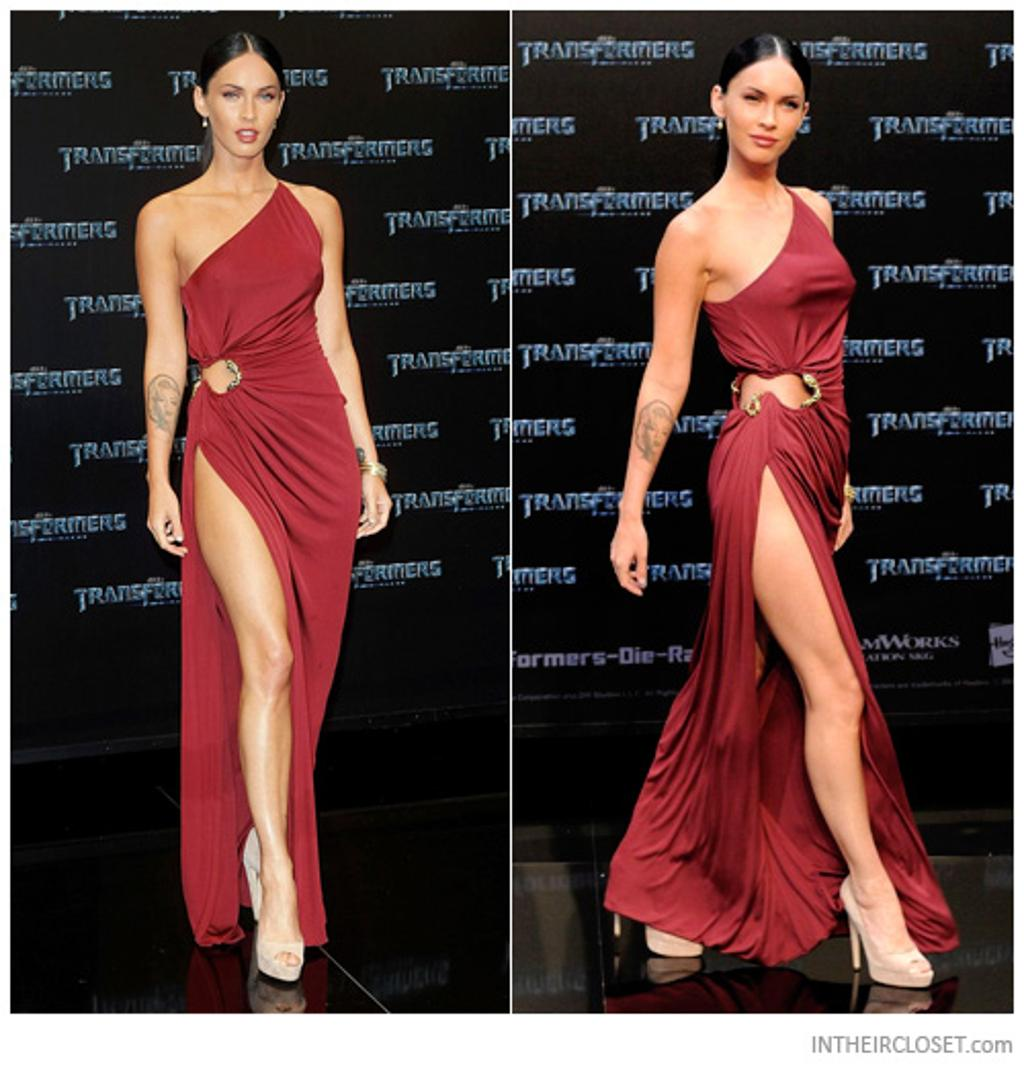face: (726, 63, 804, 162), (206, 59, 279, 156)
